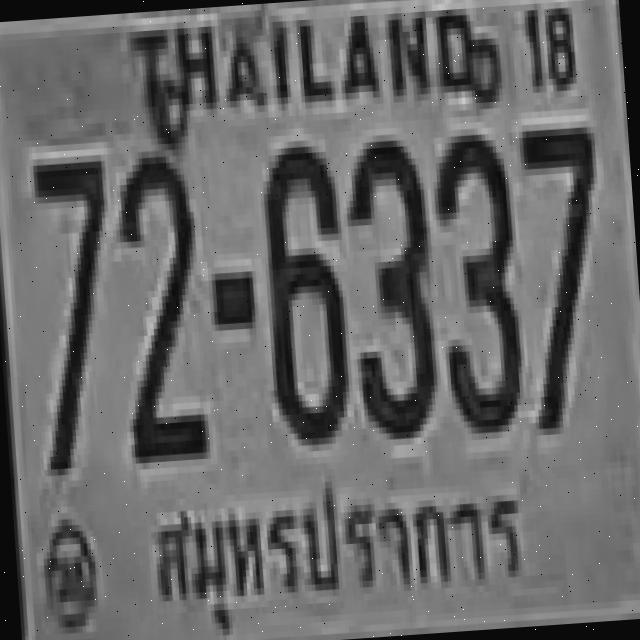2: (110, 148, 206, 456)
3: (341, 132, 437, 435), (430, 126, 522, 428)
6: (256, 138, 348, 440)
7: (514, 120, 610, 428), (28, 154, 120, 469)
SamutPrakan: (138, 451, 533, 632)
